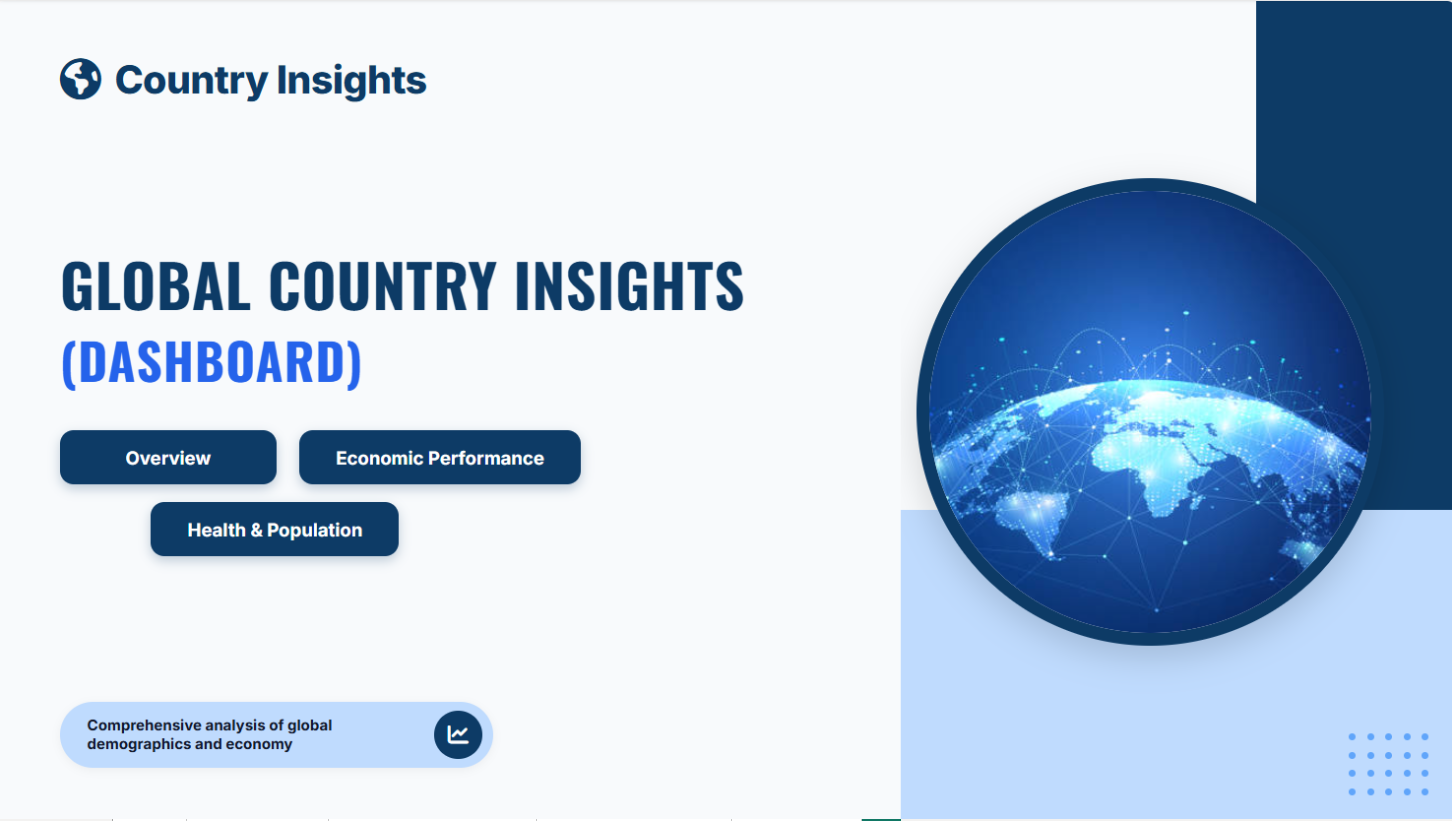

This screenshot's page, from the dashboard's own definition file:
{"tool":"powerbi","page":{"name":"Home","canvas":[1920,1080],"ordinal":0},"visuals":[{"type":"actionButton","box":[86.9,569,272.6,65.9],"z":0},{"type":"actionButton","box":[208.1,665.1,314.8,65.9],"z":1000},{"type":"actionButton","box":[401.7,569,363.5,65.9],"z":2000}]}

Visuals, with their boxes in screenshot pixels (x1, y1, x2, y2), scaled from the page's 1920x1080 canvas onto the 1452x821 screenshot:
actionButton: {"left": 66, "top": 433, "right": 272, "bottom": 483}
actionButton: {"left": 157, "top": 506, "right": 395, "bottom": 556}
actionButton: {"left": 304, "top": 433, "right": 579, "bottom": 483}
